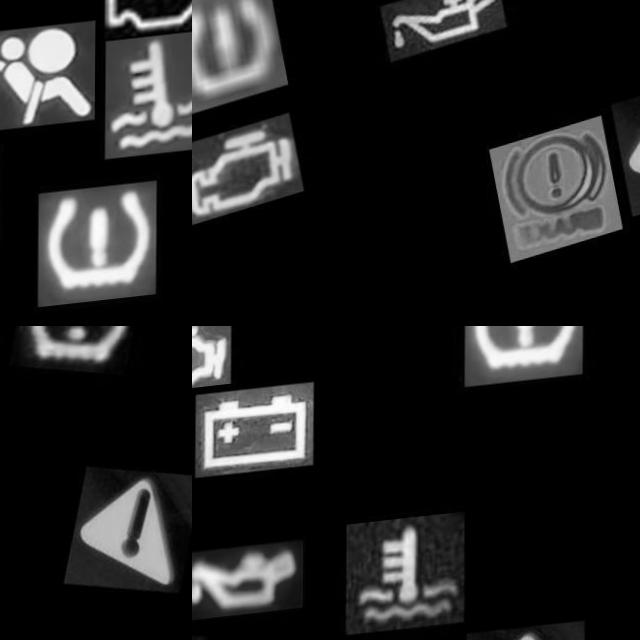Central Warning lamp: (64, 463, 192, 612), (611, 86, 640, 231)
Engine cooling system: (346, 520, 465, 640), (105, 42, 192, 170)
